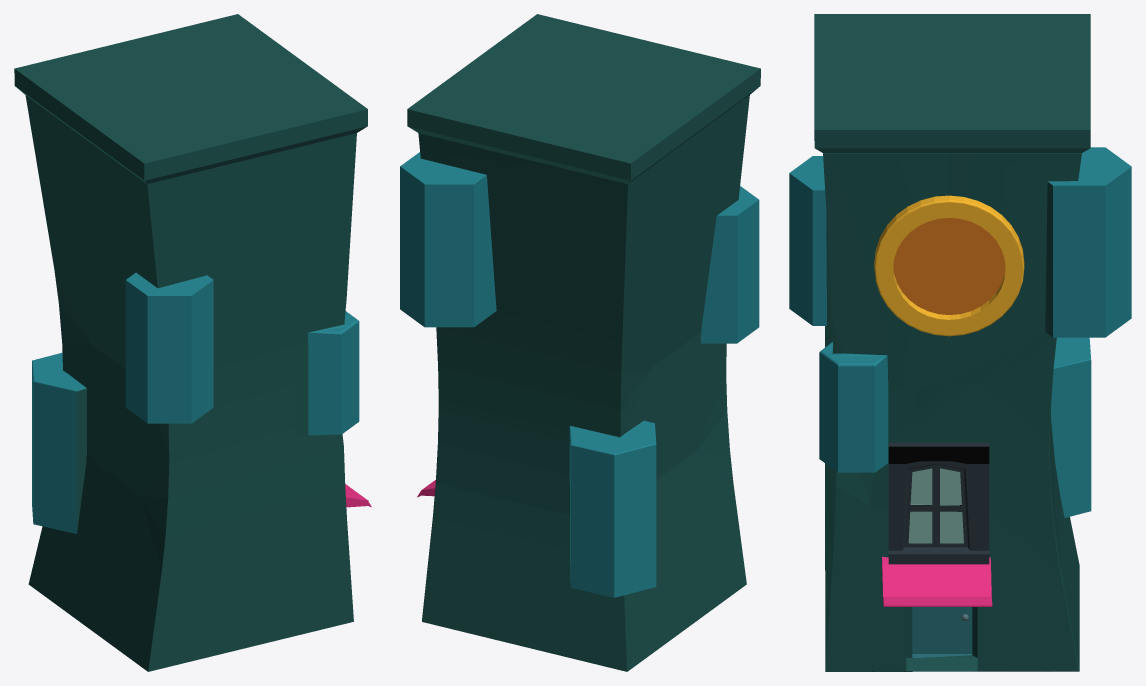
The model's file is MediumHeightBuilding.fbx.
3 renders of one model, left to right at view 1: azimuth 30°, elevation 25°; view 2: azimuth 150°, elevation 25°; view 3: azimuth 270°, elevation 25°, orthographic. The views are drawn at different scales.
Parts seen in each view (by area): view 1: Aween.002; view 2: Aween.002; view 3: Aween.002.
Part boxes in pixels (x1,y1,x2,y2): Aween.002: [14, 14, 371, 671]; Aween.002: [400, 14, 760, 671]; Aween.002: [789, 14, 1131, 671].
Size of the model in its own units: 736 by 1375 by 781.
